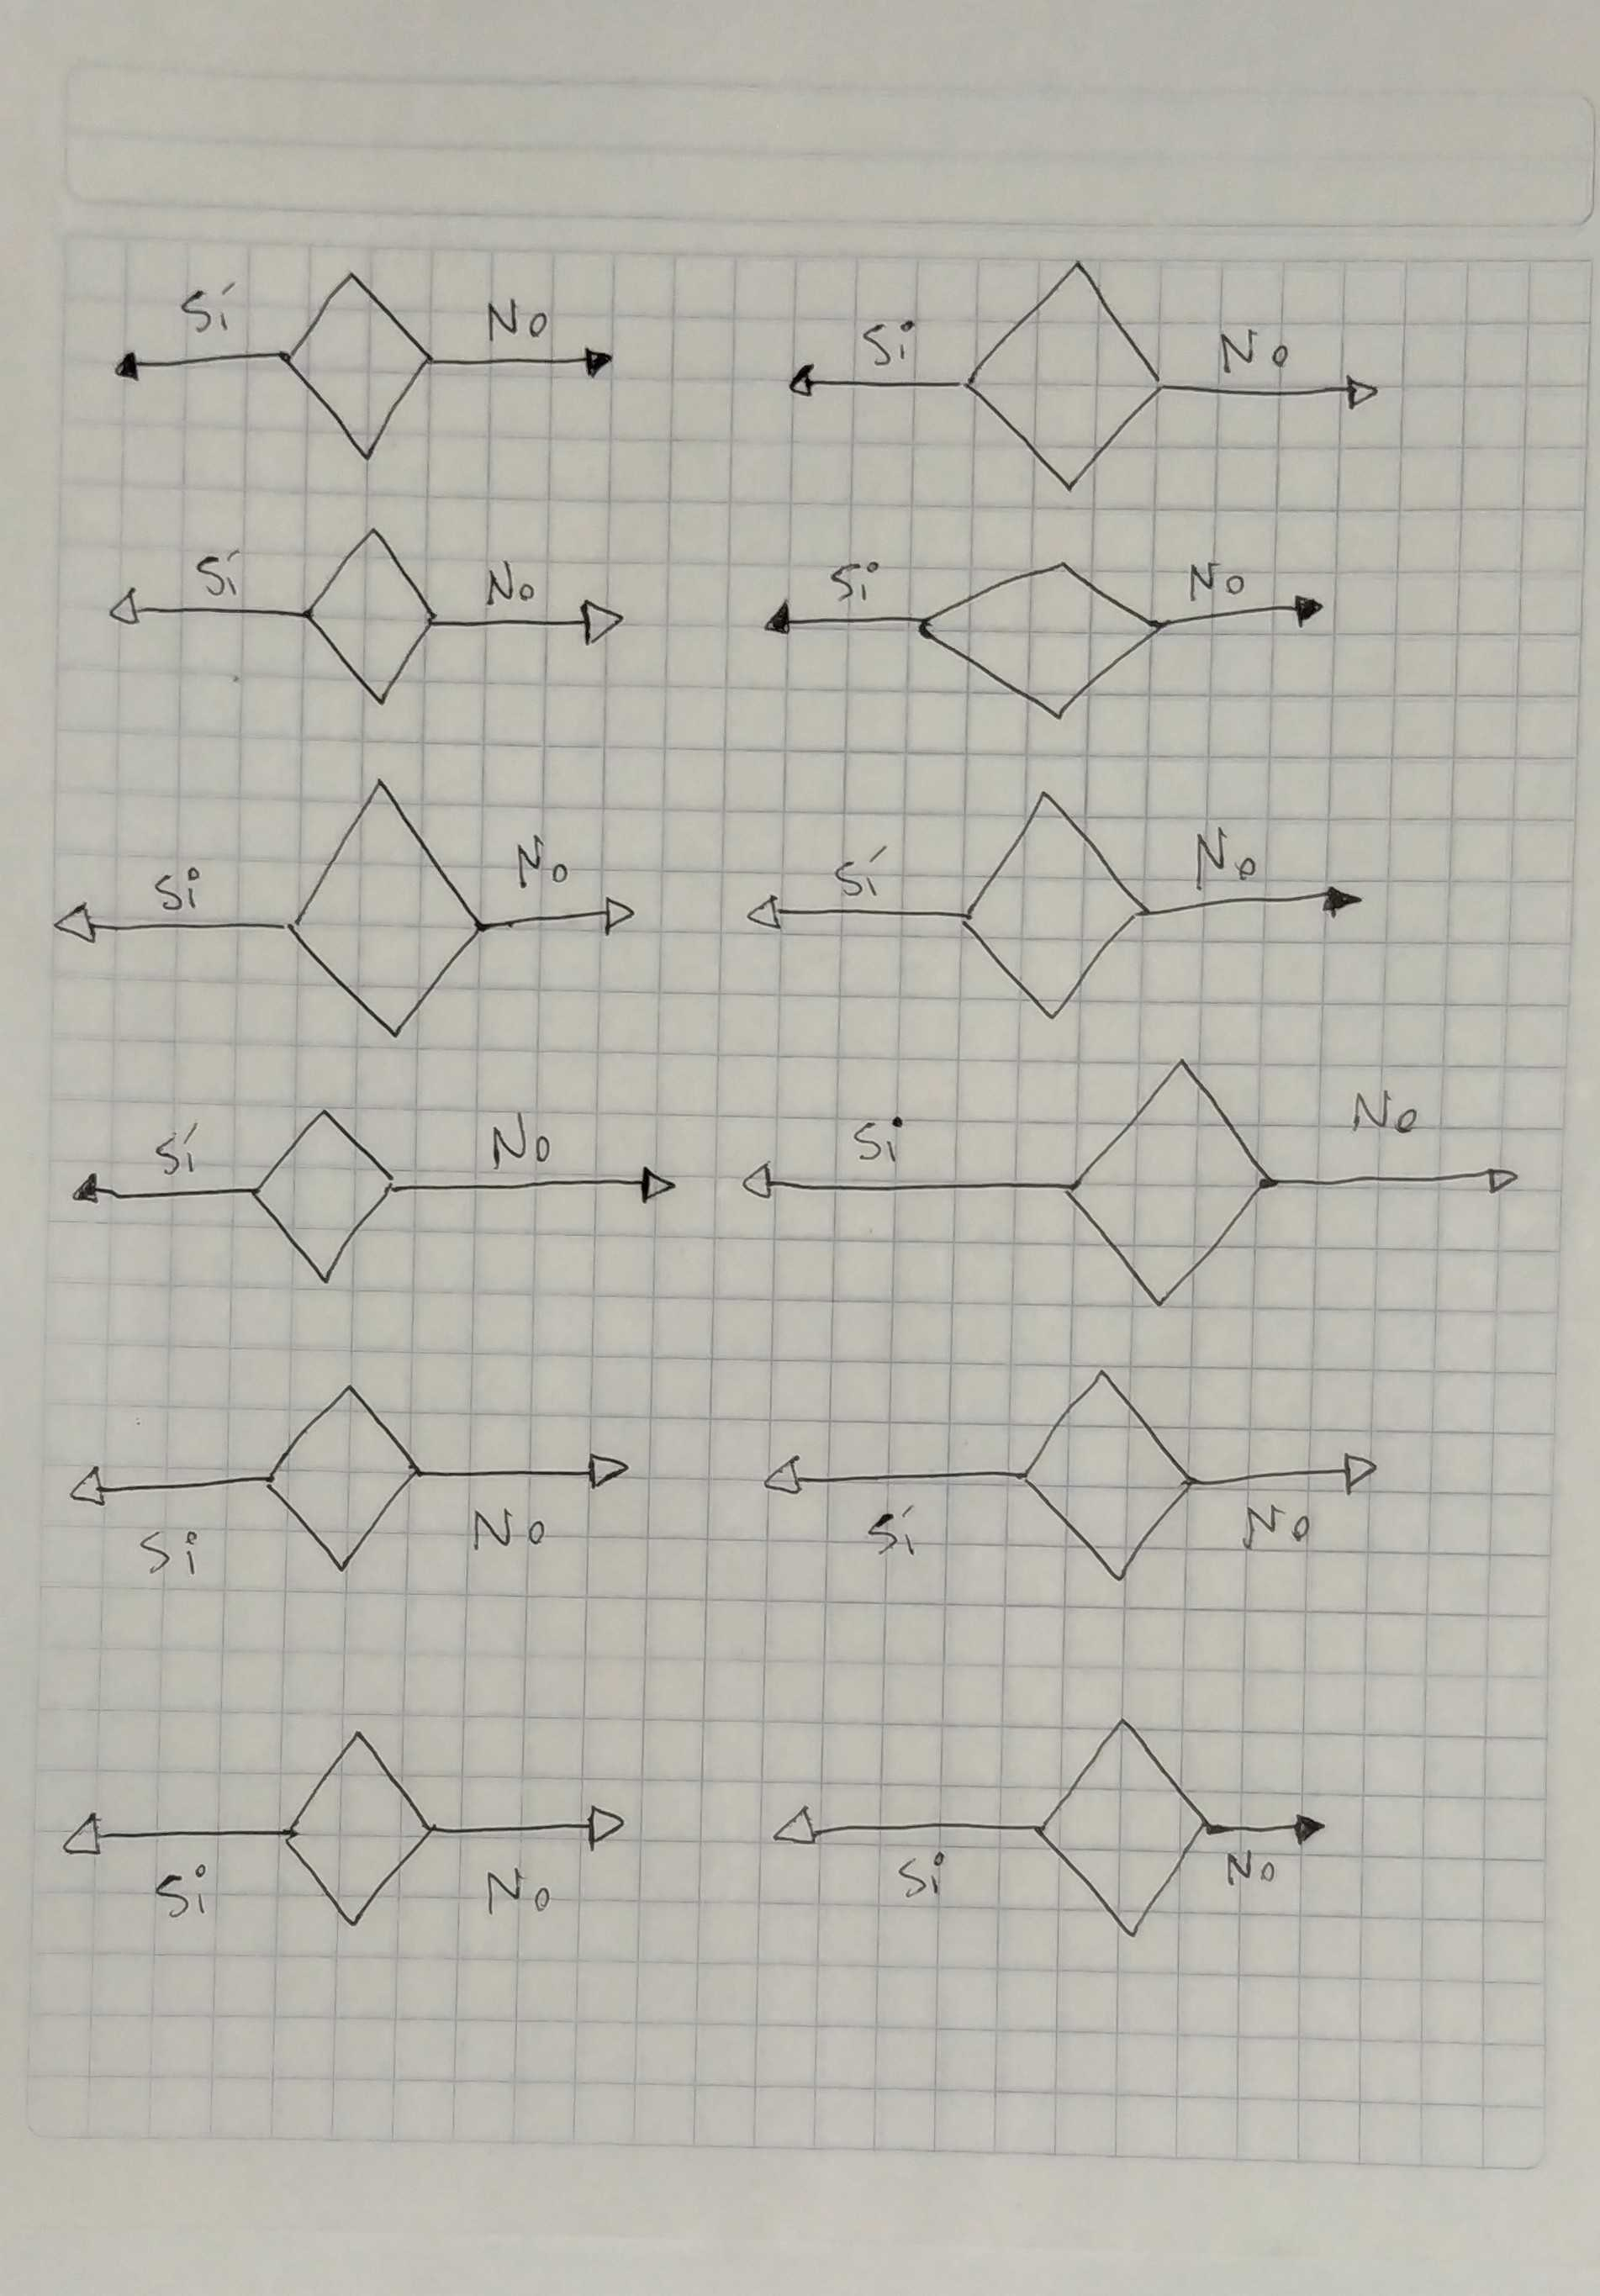arrow_line_left: (736, 1151, 1073, 1214), (766, 1795, 1043, 1860), (42, 893, 293, 953), (759, 1445, 1024, 1499), (61, 1453, 277, 1514), (56, 1804, 291, 1860), (106, 577, 314, 640), (742, 886, 965, 944), (778, 349, 970, 408), (70, 1153, 258, 1213), (105, 335, 291, 387), (754, 593, 930, 644)
arrow_line_right: (1265, 1148, 1528, 1216), (389, 1158, 684, 1211), (415, 1436, 632, 1502), (1159, 358, 1385, 417), (1190, 1445, 1385, 1506), (431, 1797, 635, 1855), (1141, 878, 1368, 928), (429, 595, 633, 651), (427, 331, 621, 389), (1162, 590, 1340, 649), (476, 890, 644, 949), (1202, 1802, 1331, 1855)
decision: (1066, 1056, 1277, 1319), (961, 255, 1176, 506), (291, 769, 485, 1043), (916, 551, 1169, 733), (965, 780, 1143, 1035), (1040, 1712, 1211, 1949), (1021, 1359, 1197, 1584), (265, 1373, 431, 1579), (283, 1725, 440, 1935), (251, 1094, 410, 1295), (279, 265, 436, 468), (305, 520, 443, 715)
